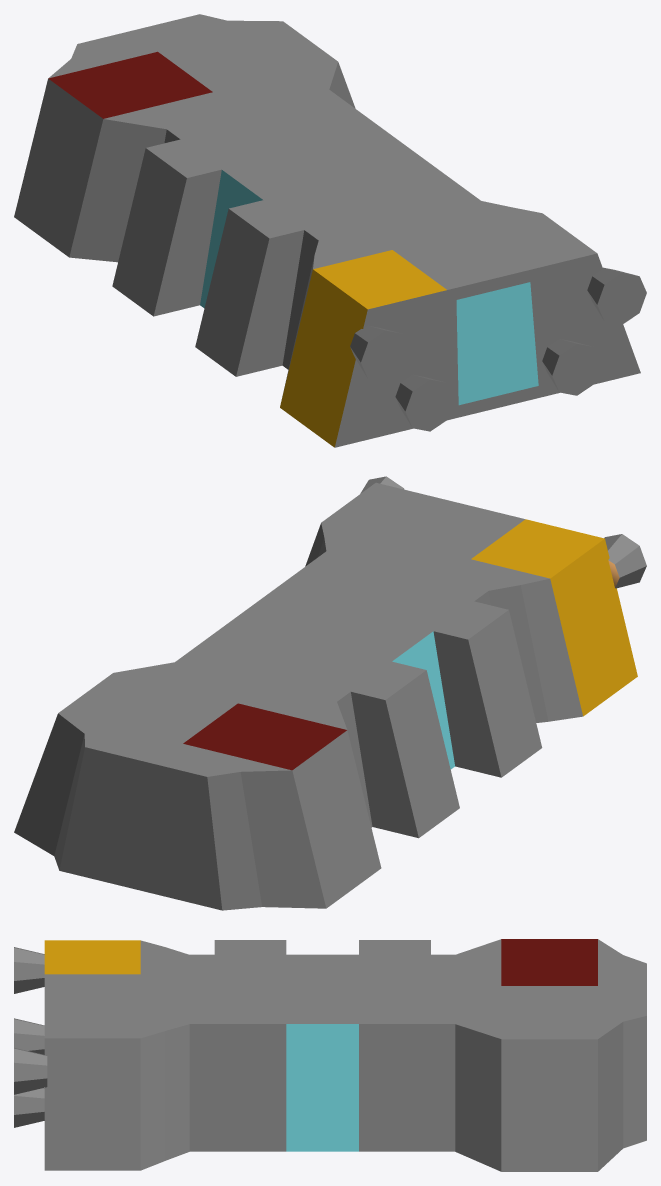
Rendered from Shuttle-Asteroid.fbx.
3 renders of one model, top to bottom at view 1: azimuth 30°, elevation 25°; view 2: azimuth 150°, elevation 25°; view 3: azimuth 270°, elevation 25°, orthographic. The views are drawn at different scales.
Visible parts, largest first — view 1: Shuttle-Asteroid; view 2: Shuttle-Asteroid; view 3: Shuttle-Asteroid.
Part boxes in pixels (x1,y1,x2,y2): Shuttle-Asteroid: (14,14,646,447); Shuttle-Asteroid: (14,476,646,910); Shuttle-Asteroid: (14,939,646,1171).
Size of the model in its own units: 412 by 81.83 by 206.
